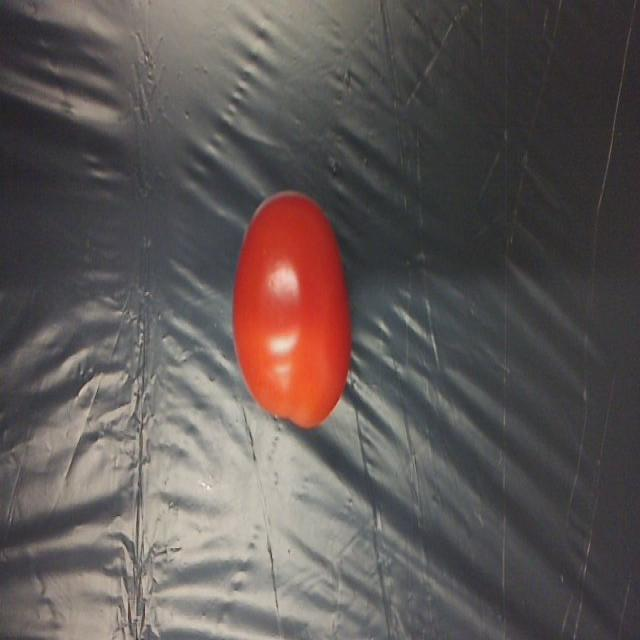sari: (230, 164, 369, 442)
